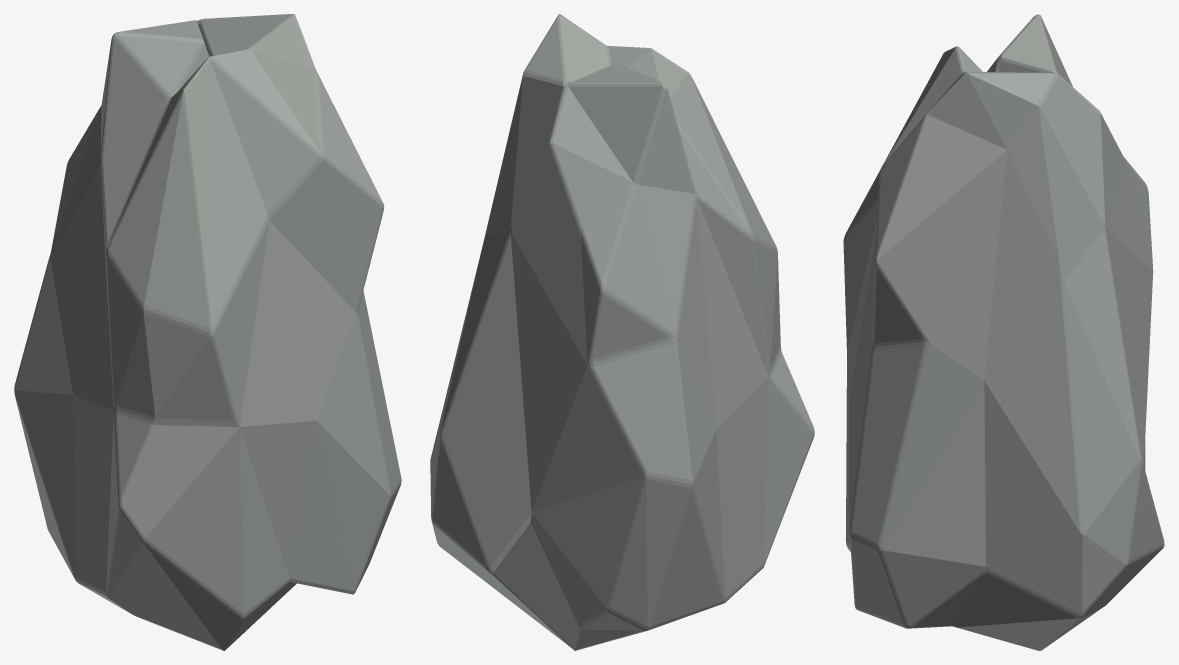
Rendered from Rocher_Sceptre.glb.
The picture shows the model from 3 angles, left to right: view 1: azimuth 30°, elevation 25°; view 2: azimuth 150°, elevation 25°; view 3: azimuth 270°, elevation 25°; orthographic projection. The views are drawn at different scales.
Visible parts, largest first — view 1: RocherPrincipal; view 2: RocherPrincipal; view 3: RocherPrincipal.
Part boxes in pixels (x1=…): RocherPrincipal: x1=14, y1=14, x2=401, y2=650; RocherPrincipal: x1=430, y1=14, x2=814, y2=650; RocherPrincipal: x1=843, y1=14, x2=1164, y2=650.
Bounding box in the file's own units: 0.8601 × 1.66 × 0.8274.
Materials: 1 (1 with a texture image).
